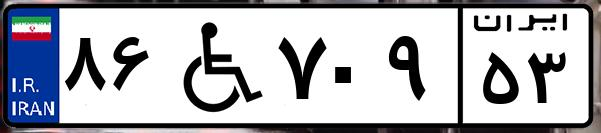0: (330, 28, 385, 110)
3: (525, 38, 570, 115)
5: (475, 38, 525, 113)
6: (110, 28, 158, 98)
7: (270, 28, 330, 110)
8: (57, 26, 110, 100)
9: (385, 28, 445, 110)
ژ (معلولین و جانبازان): (158, 12, 270, 120)
